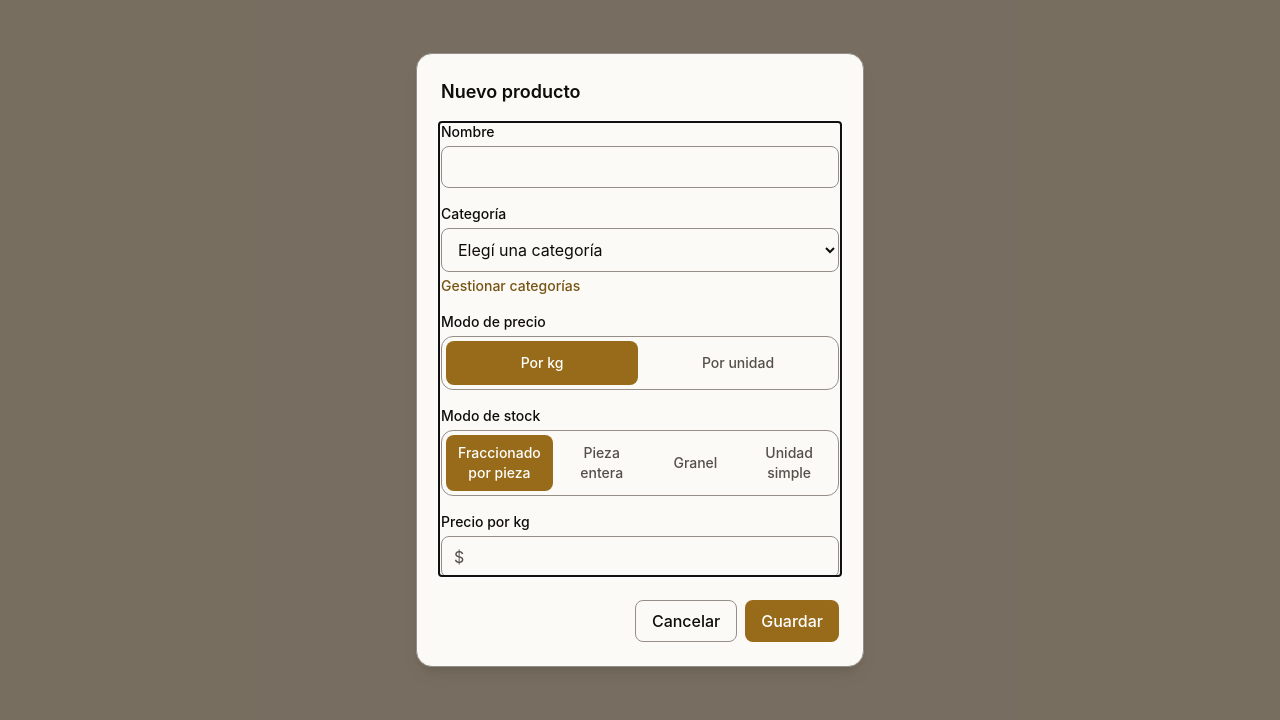
Test: ModalProducto - picker de categoría con creación inline (UI-5b, docs/06-ui-ux.md §2) › "Cancelar" (del sub-formulario, no el del modal) vuelve al select sin crear nada
This screenshot has width=1280, height=720.
Select "+ Nueva categoría…" in the dropdown labelled "Categoría" at (640, 250), box left=441, top=228, right=839, bottom=272
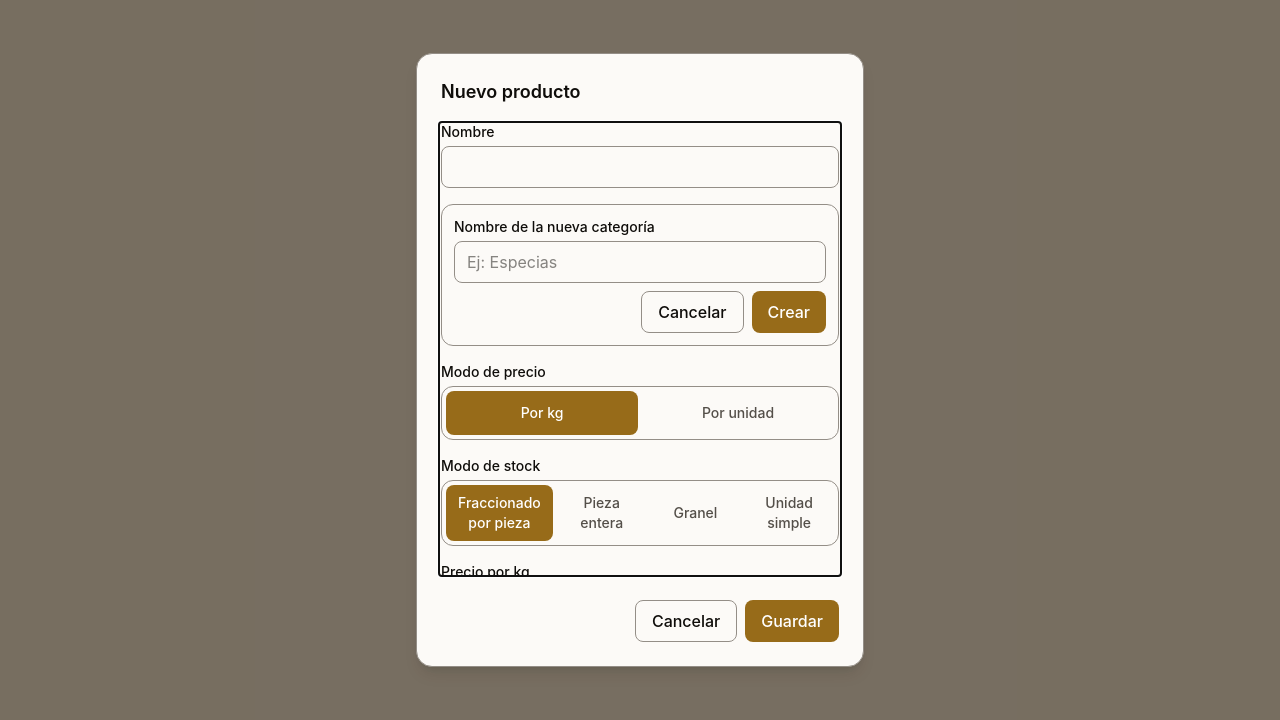
Type "Especias" into the field labelled "Nombre de la nueva categoría".
click(640, 262); type("Especias")  # box left=454, top=241, right=826, bottom=283
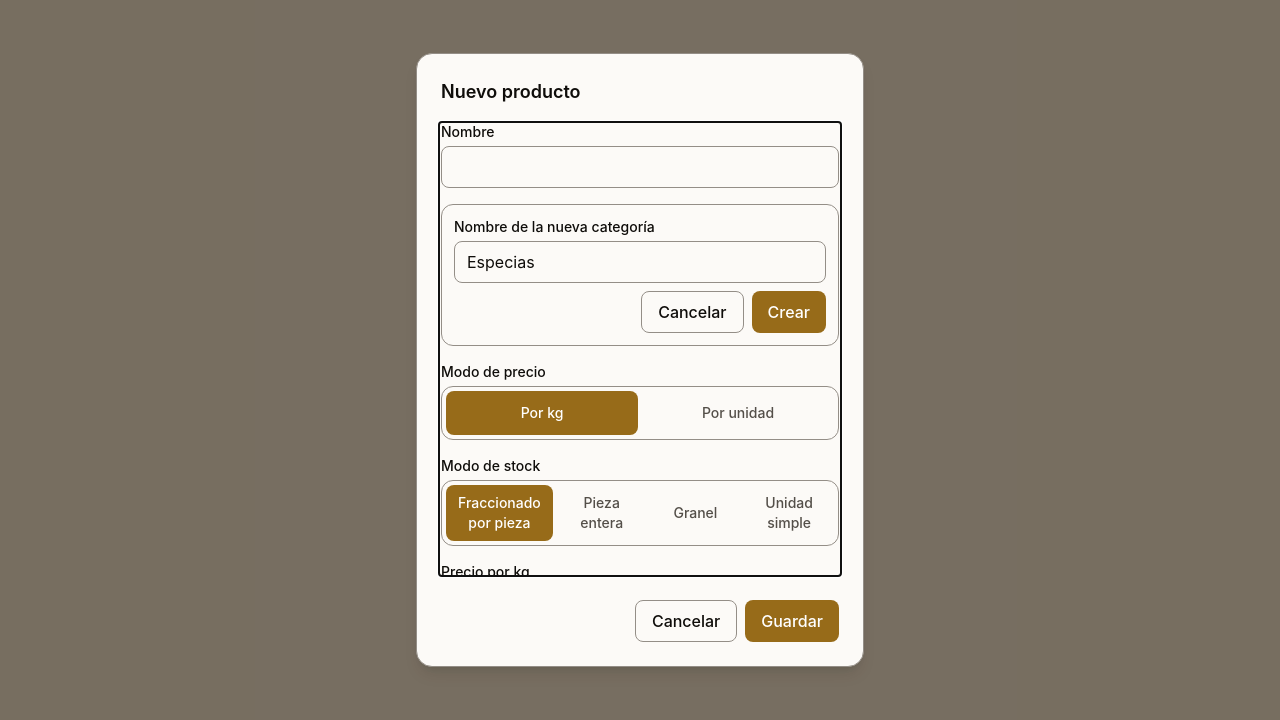
Click the button "Cancelar" below "Nombre de la nueva categoría".
click(692, 312)  # box left=641, top=291, right=744, bottom=333
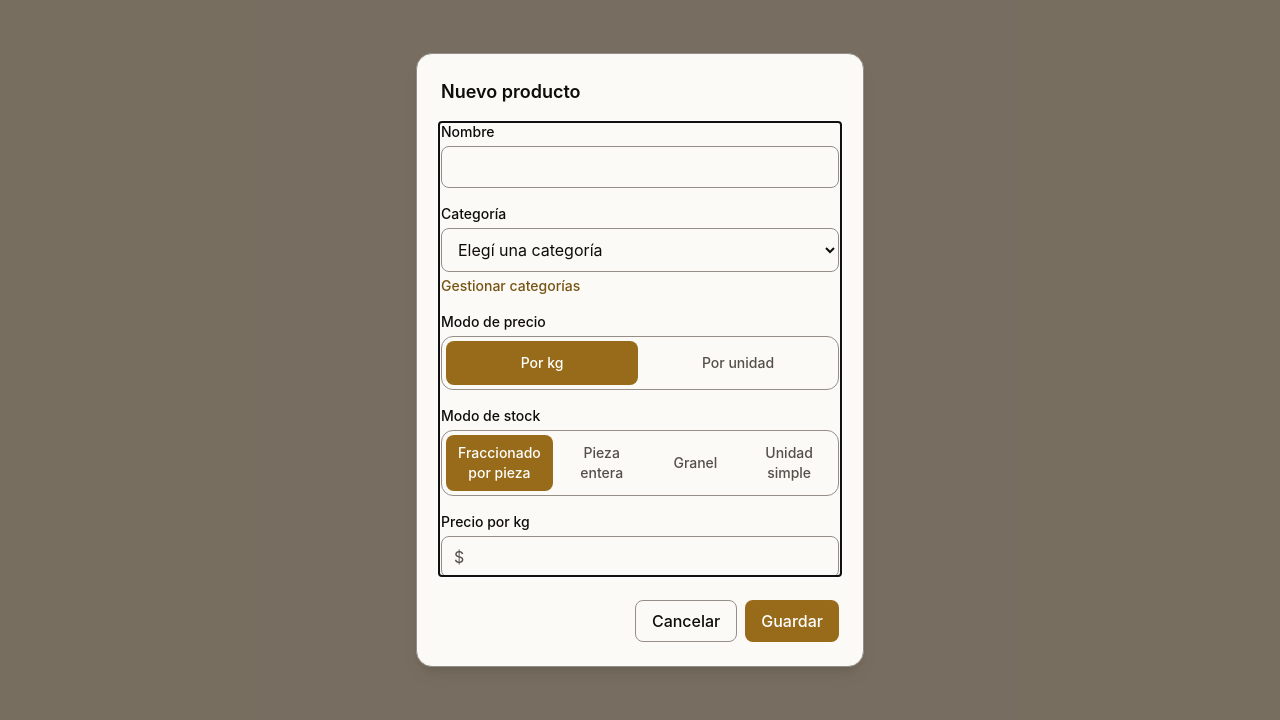
Expected: the dropdown labelled "Categoría" is shown, left=441, top=228, right=839, bottom=272
